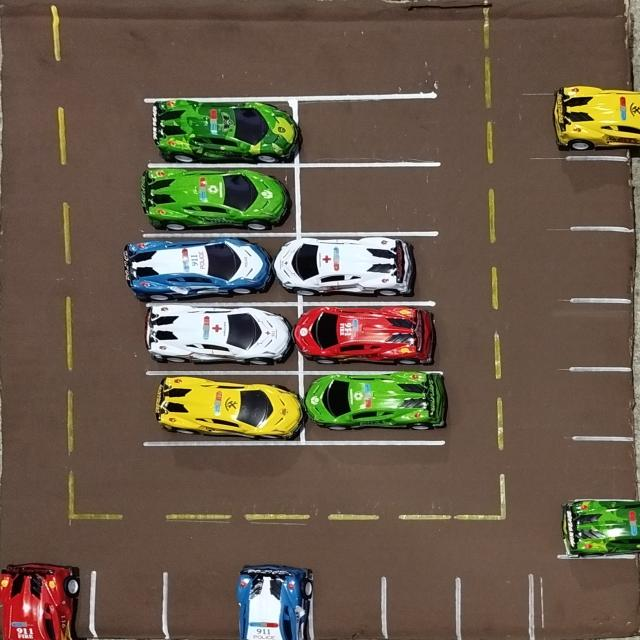libre: (456, 561, 533, 640), (164, 565, 244, 640), (381, 566, 460, 640), (91, 562, 165, 640), (568, 366, 640, 438), (569, 229, 640, 302), (315, 564, 383, 640), (569, 298, 640, 368), (567, 435, 640, 500), (573, 156, 640, 223)
no_estacionarse: (535, 558, 640, 640)
ocupado: (143, 372, 302, 446), (136, 234, 301, 304), (136, 164, 298, 234), (137, 97, 298, 166), (299, 370, 444, 445), (140, 305, 299, 372), (299, 233, 436, 301), (300, 306, 442, 371), (0, 557, 92, 640), (546, 84, 640, 157), (232, 560, 313, 640), (554, 498, 640, 560)
